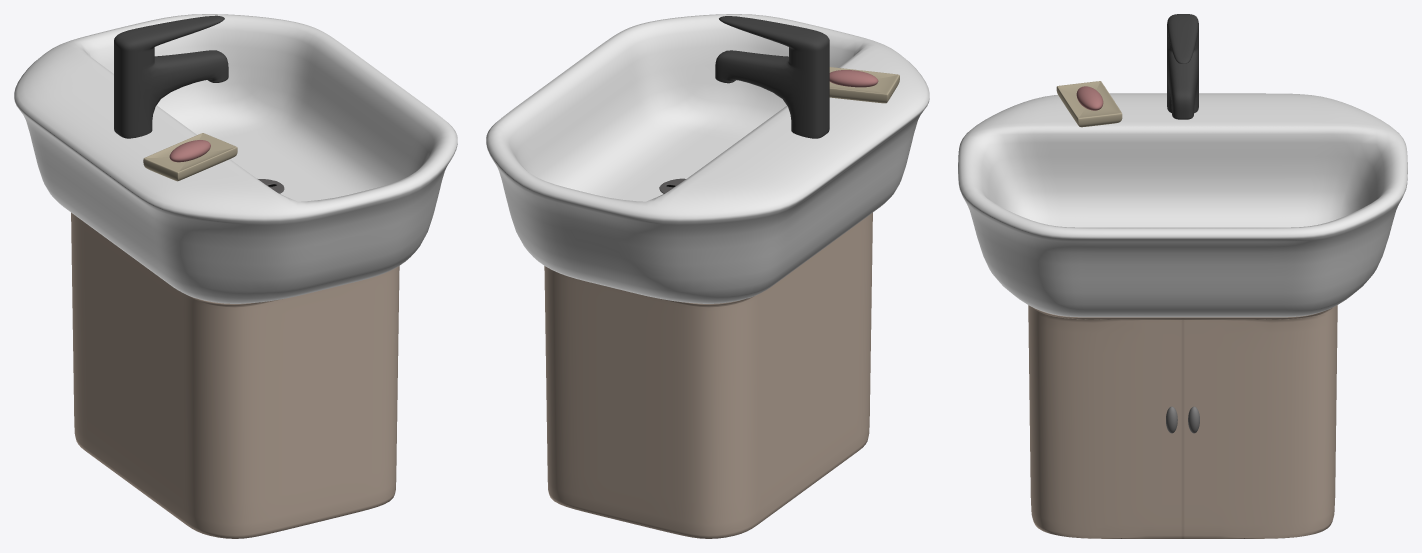
Rendered from racovina.fbx.
3 views of the same model, side by side, from view 1: azimuth 30°, elevation 25°; view 2: azimuth 150°, elevation 25°; view 3: azimuth 270°, elevation 25° (orthographic). The views are drawn at different scales.
Parts seen in each view (by area): view 1: racovina; view 2: racovina; view 3: racovina.
Boxes of the visible parts, x1,y1,x2,y2 form: racovina: [14, 14, 457, 538]; racovina: [486, 14, 929, 538]; racovina: [958, 14, 1407, 538].
Bounding box in the file's own units: 5.71 × 8.11 × 7.65.
